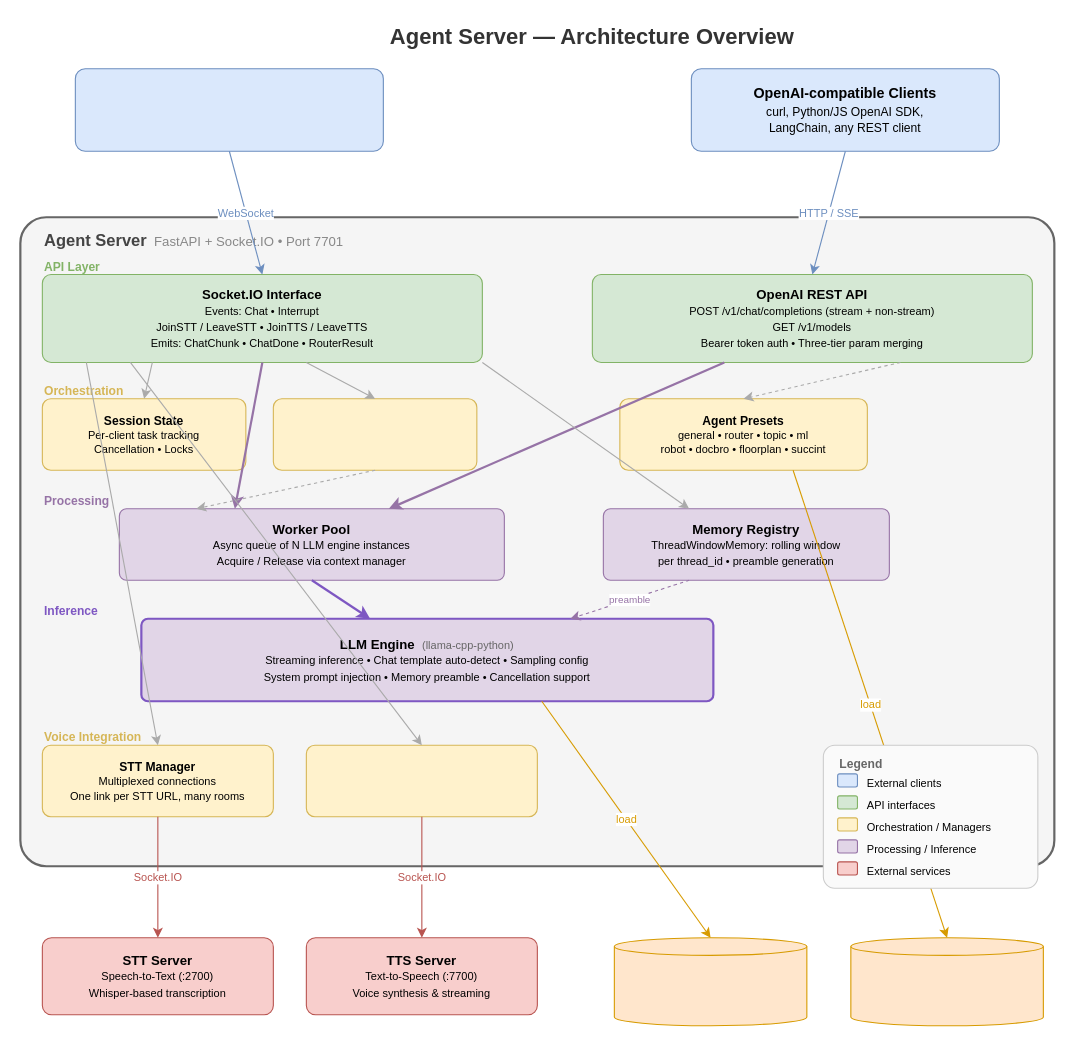
Image size: 1074x1045. Some labels were removed from this diagram. Each missing label, with the box of its shape:
Configuration agent_config.json *.agent.json • prompts/*.txt: (850, 937, 1043, 1026)
GGUF Models Qwen 2.5 • Phi-4 • Gemma EuroLLM • SmolLM • Jan Nano: (613, 937, 807, 1026)
Real-time Clients Browser, Mobile, IoT (via agentClient.js SDK): (74, 68, 383, 151)
Router Dispatcher Fire-and-forget intent classification → JSON: (272, 398, 477, 470)
TTS Manager Stream text chunks to TTS Voice/speed config • Field extraction: (305, 744, 537, 817)
